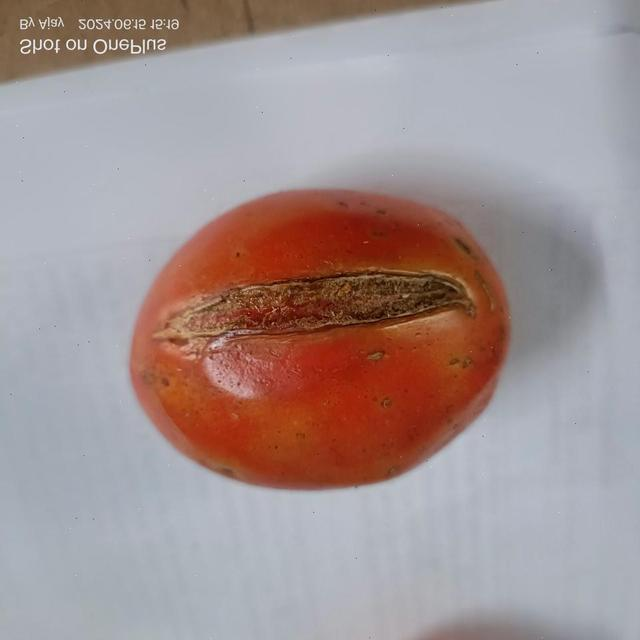Cracking Fruit: (110, 118, 425, 317)
